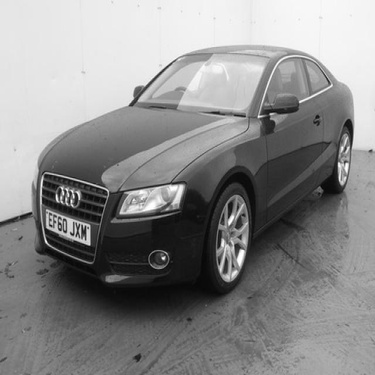car: (21, 39, 375, 285)
